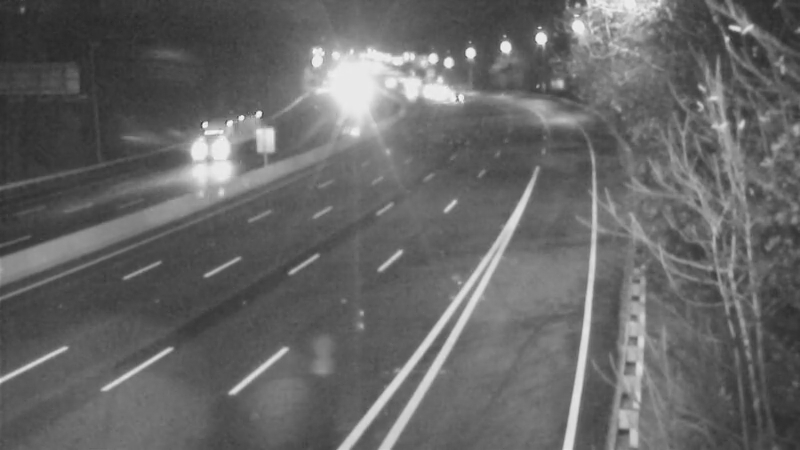vehicle: (416, 69, 466, 119), (429, 72, 479, 122), (183, 115, 233, 165)
